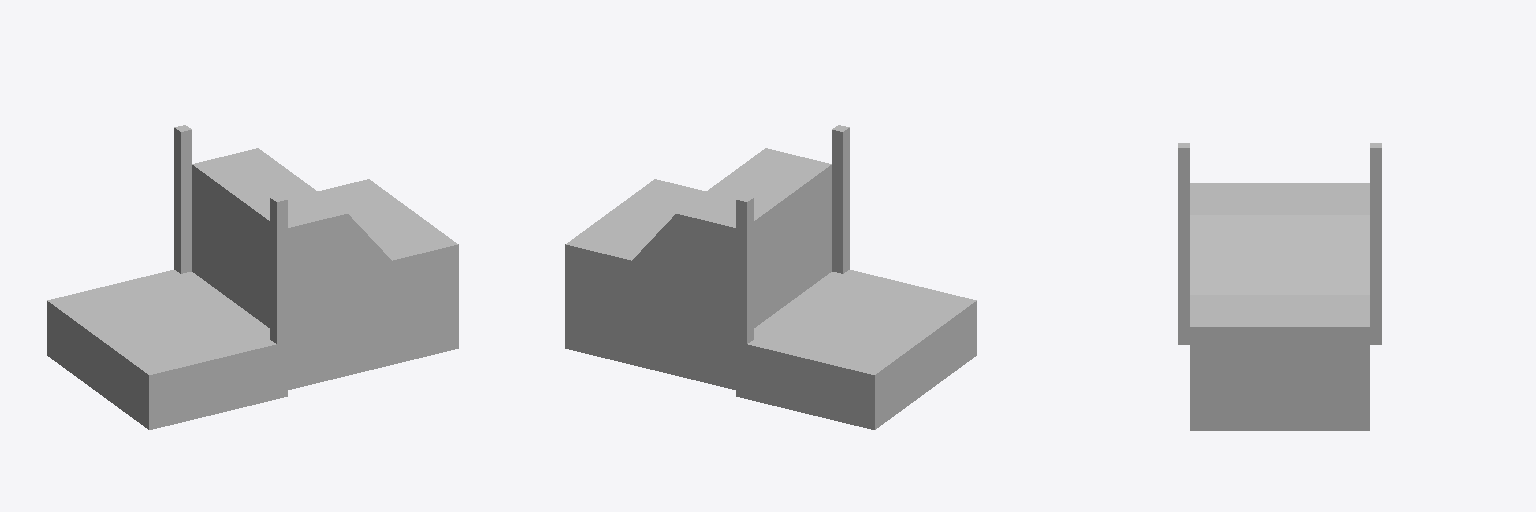
The model's file is semitruk1.obj.
3 renders of one model, left to right at view 1: azimuth 30°, elevation 25°; view 2: azimuth 150°, elevation 25°; view 3: azimuth 270°, elevation 25°, orthographic.
Visible parts, largest first — view 1: PRLD01.001; view 2: PRLD01.001; view 3: PRLD01.001.
Part boxes in pixels (left/top/right/bottom): PRLD01.001: left=47, top=125, right=458, bottom=429; PRLD01.001: left=565, top=125, right=976, bottom=429; PRLD01.001: left=1178, top=143, right=1381, bottom=430.
Size of the model in its own units: 228 by 136 by 128.